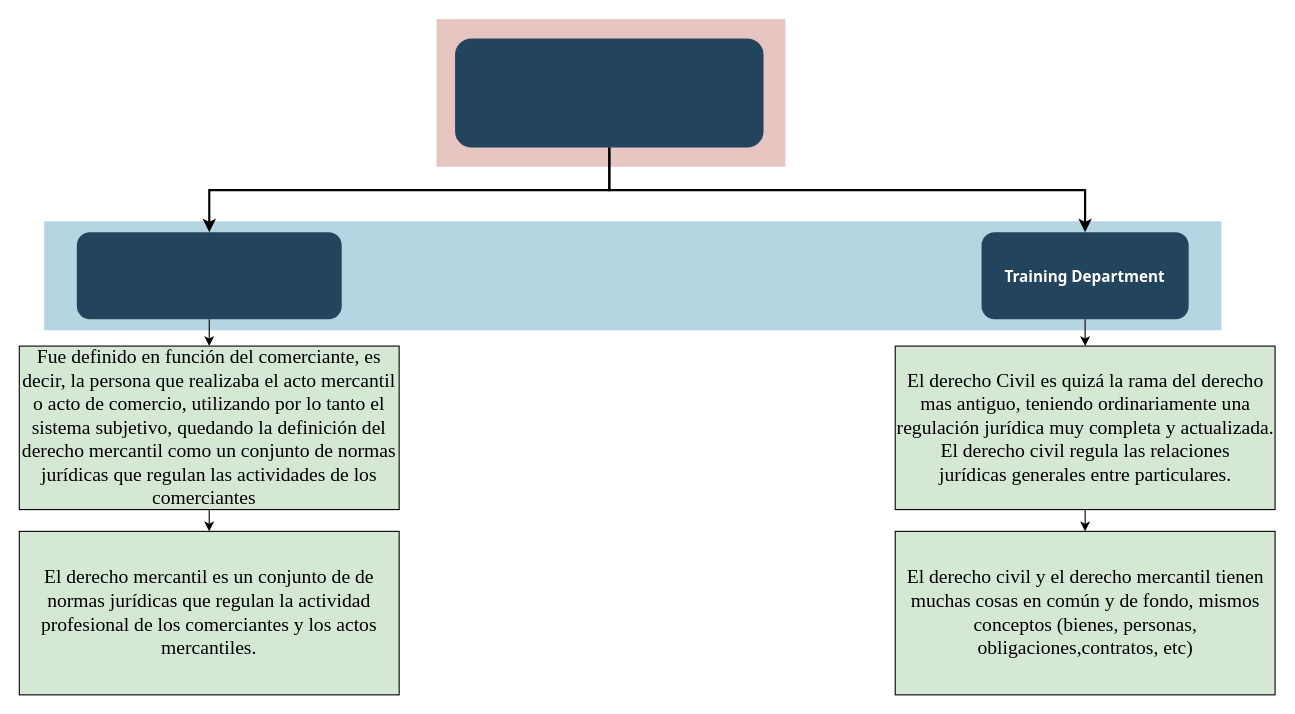
The diagram is 1295 pixels wide and 714 high, and some of its shapes have lost their labels. The centre of each missing label's shape, as x and y in pixels:
"Concepto del derecho mercantil" goes at (208,275).
"Generalidades del derecho mercantil" goes at (609,92).
